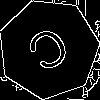C: (24, 24, 78, 82)
